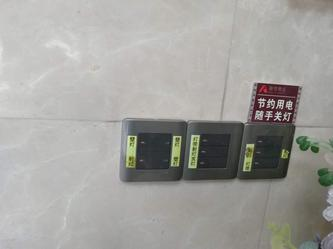switch: (139, 153, 171, 170), (135, 133, 168, 149), (199, 158, 227, 169), (255, 146, 281, 157), (254, 135, 282, 145), (201, 135, 227, 145), (200, 148, 228, 157), (254, 161, 280, 169)
